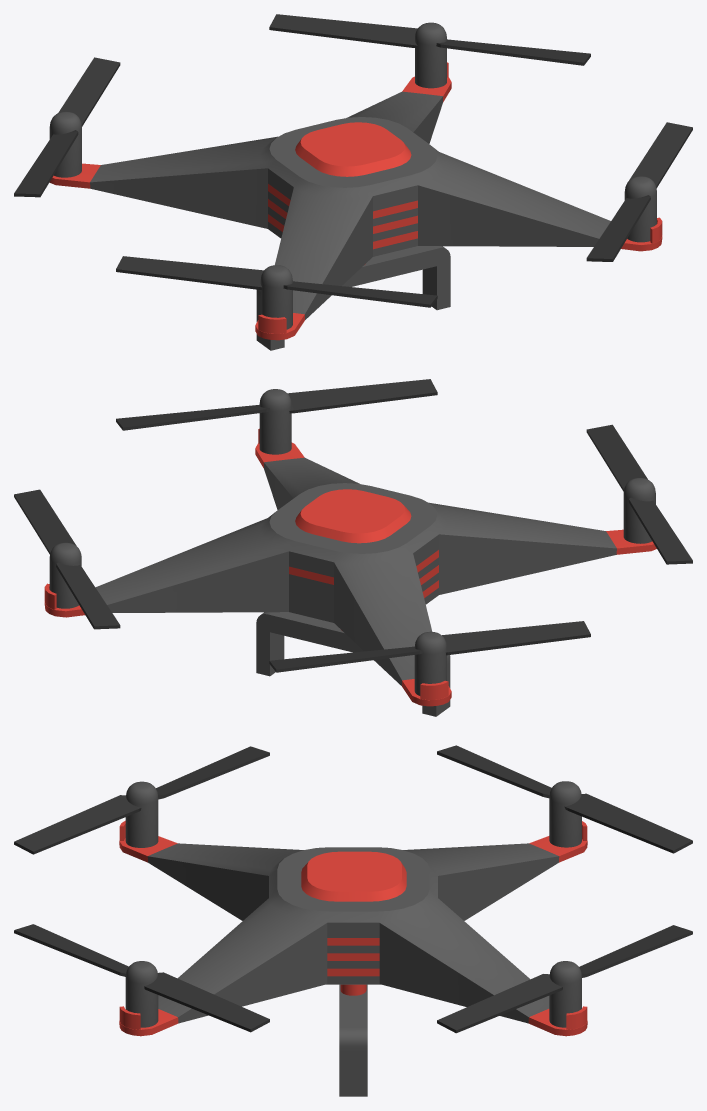
Rendered from drone.fbx.
3 renders of one model, top to bottom at view 1: azimuth 30°, elevation 25°; view 2: azimuth 150°, elevation 25°; view 3: azimuth 270°, elevation 25°, orthographic.
Visible parts, largest first — view 1: drone, pervane, pervane.003, tasimaKol, pervane.002, pervane.001; view 2: drone, pervane.001, pervane.002, tasimaKol, pervane.003, pervane; view 3: drone, pervane.002, pervane.003, pervane.001, pervane, tasimaKol.
Boxes of the visible parts, x1=… form: drone: x1=49, y1=22, x2=662, y2=340; pervane: x1=269, y1=14, x2=590, y2=65; pervane.003: x1=116, y1=256, x2=437, y2=307; tasimaKol: x1=256, y1=246, x2=450, y2=350; pervane.002: x1=14, y1=57, x2=120, y2=197; pervane.001: x1=586, y1=122, x2=692, y2=261; drone: x1=44, y1=389, x2=656, y2=706; pervane.001: x1=116, y1=379, x2=437, y2=430; pervane.002: x1=269, y1=621, x2=590, y2=672; tasimaKol: x1=256, y1=612, x2=450, y2=716; pervane.003: x1=586, y1=424, x2=692, y2=564; pervane: x1=14, y1=489, x2=120, y2=629; drone: x1=119, y1=781, x2=587, y2=1036; pervane.002: x1=437, y1=745, x2=692, y2=853; pervane.003: x1=14, y1=746, x2=269, y2=854; pervane.001: x1=14, y1=924, x2=269, y2=1032; pervane: x1=437, y1=925, x2=692, y2=1033; tasimaKol: x1=339, y1=984, x2=367, y2=1096.
Size of the model in its own units: 795 by 236 by 803.
